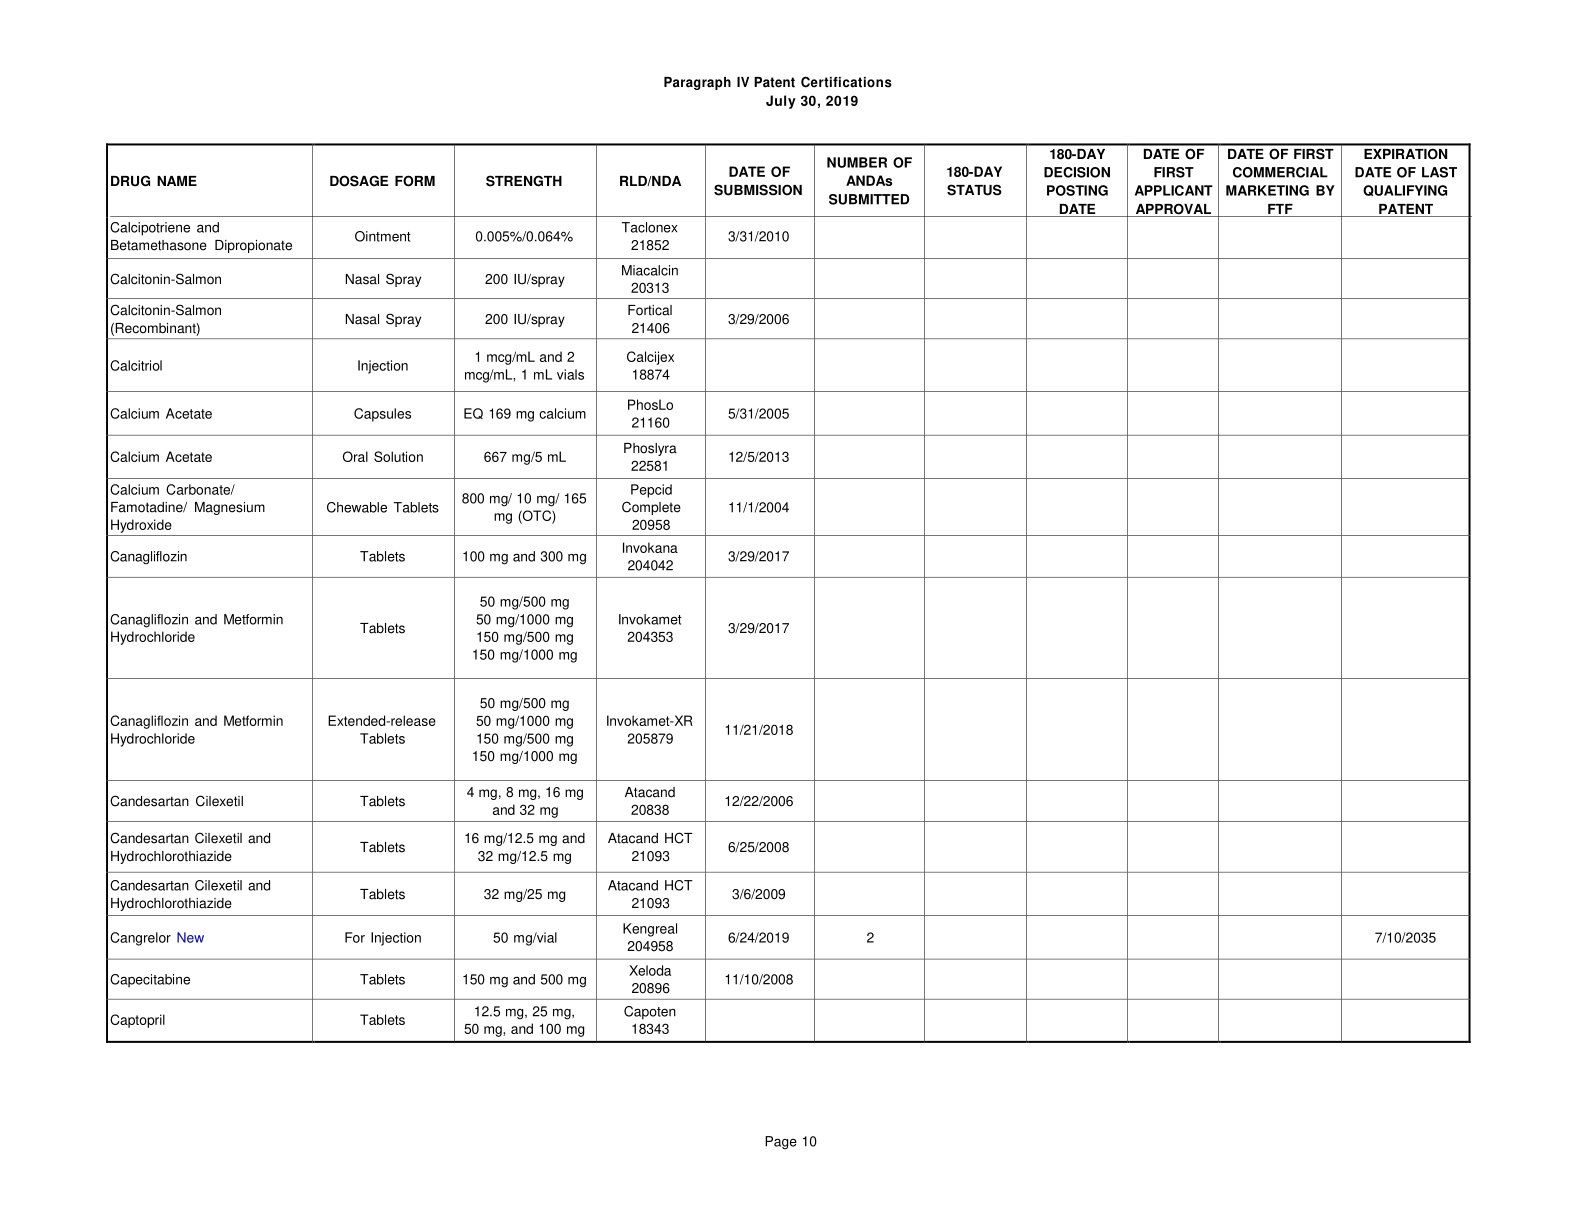full_lined: (96, 132, 1484, 1050)
